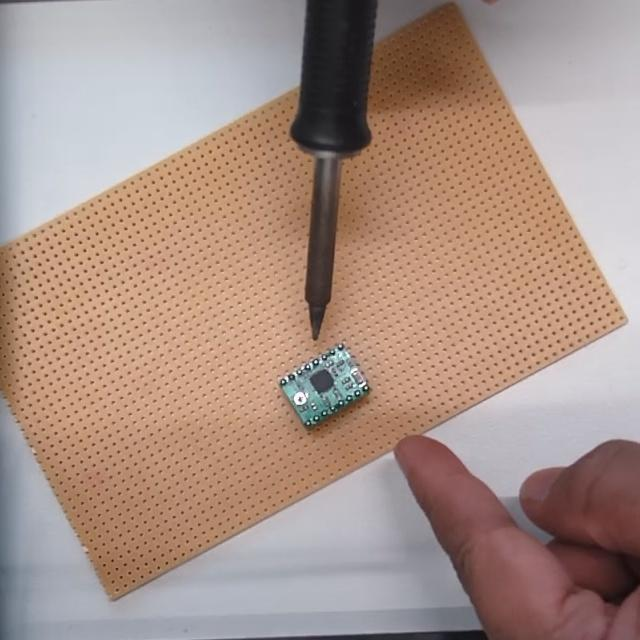Chip: (277, 347, 375, 432)
soldering_iron: (285, 0, 372, 335)
